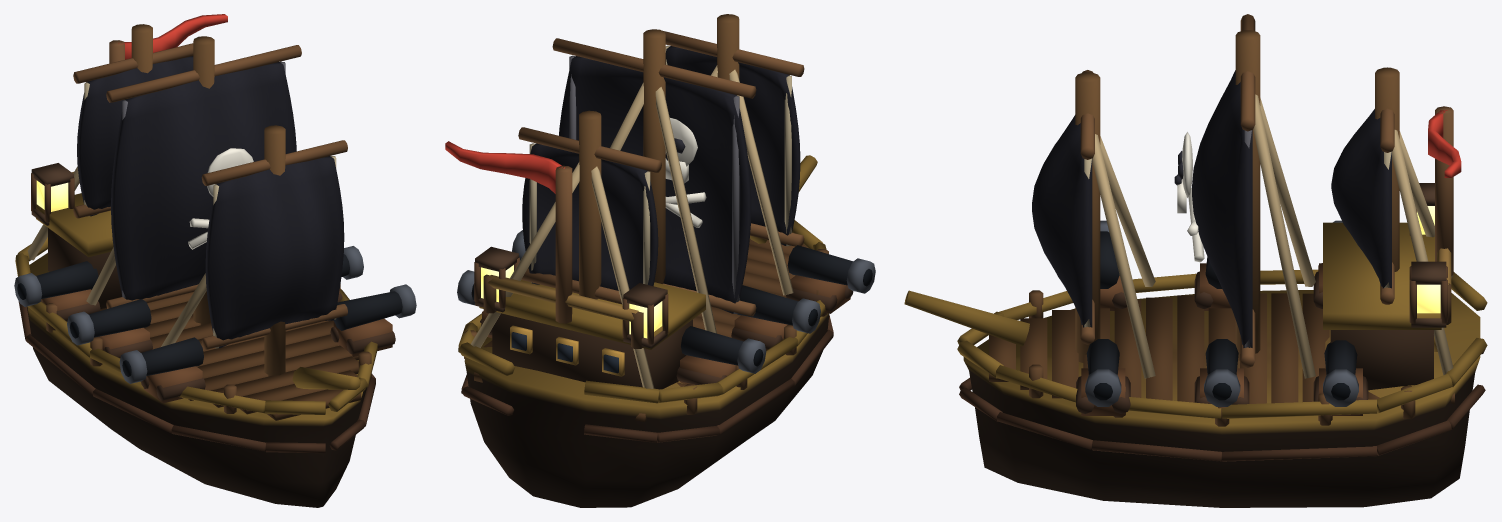
The model's file is barco-capitan.glb.
3 renders of one model, left to right at view 1: azimuth 30°, elevation 25°; view 2: azimuth 150°, elevation 25°; view 3: azimuth 270°, elevation 25°, orthographic. The views are drawn at different scales.
Parts seen in each view (by area): view 1: Hull, Sail_2, Sail_1, Cannons, Sail_3, Lantern_L, Pennant; view 2: Hull, Sail_2, Sail_3, Cannons, Sail_1, Pennant, Lantern_L, Lantern_R; view 3: Hull, Sail_2, Cannons, Sail_1, Sail_3, Lantern_R, Pennant.
Part boxes in pixels (x1=…): Hull: x1=15, y1=24, x2=377, y2=507; Sail_2: x1=106, y1=45, x2=301, y2=308; Sail_1: x1=201, y1=140, x2=347, y2=349; Cannons: x1=14, y1=246, x2=416, y2=403; Sail_3: x1=73, y1=43, x2=193, y2=218; Lantern_L: x1=31, y1=163, x2=74, y2=225; Pennant: x1=118, y1=14, x2=227, y2=59; Hull: x1=458, y1=14, x2=833, y2=507; Sail_2: x1=552, y1=38, x2=756, y2=316; Sail_3: x1=518, y1=127, x2=661, y2=304; Cannons: x1=457, y1=230, x2=875, y2=385; Sail_1: x1=662, y1=30, x2=804, y2=246; Pennant: x1=445, y1=141, x2=565, y2=193; Lantern_L: x1=622, y1=283, x2=668, y2=348; Lantern_R: x1=474, y1=246, x2=519, y2=312; Hull: x1=904, y1=30, x2=1487, y2=507; Sail_2: x1=1174, y1=14, x2=1255, y2=367; Cannons: x1=1076, y1=220, x2=1368, y2=415; Sail_1: x1=1032, y1=70, x2=1094, y2=344; Sail_3: x1=1331, y1=67, x2=1394, y2=304; Lantern_R: x1=1409, y1=261, x2=1447, y2=327; Pennant: x1=1428, y1=110, x2=1461, y2=177.
Bounding box in the file's own units: 0.6325 × 0.815 × 1.
